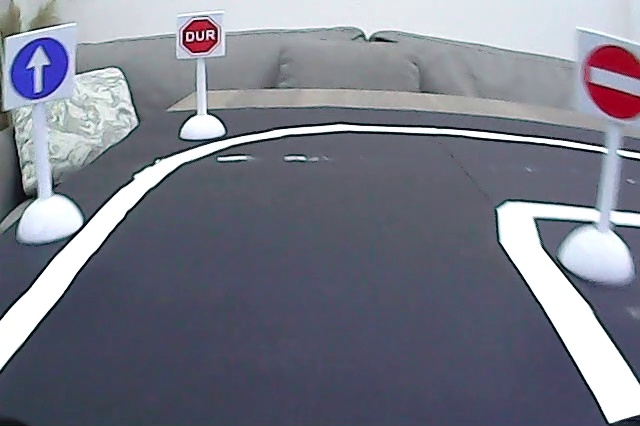do not enter: (580, 41, 640, 126)
stop sign: (178, 13, 224, 56)
